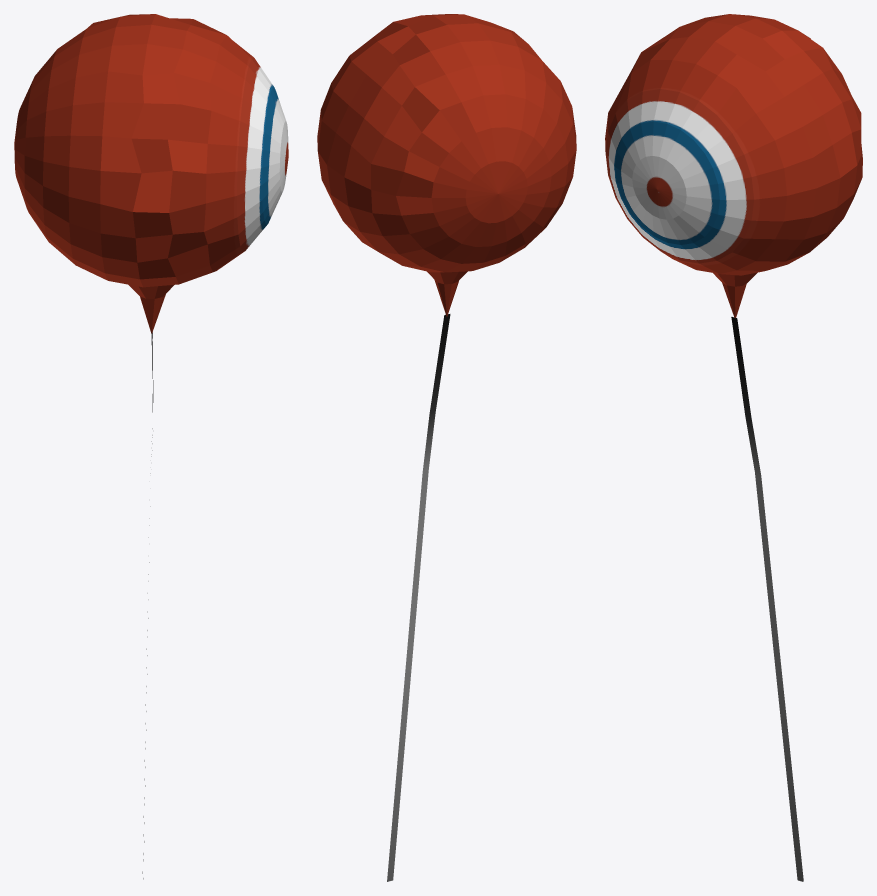
The model's file is Inflatable03.fbx.
3 renders of one model, left to right at view 1: azimuth 30°, elevation 25°; view 2: azimuth 150°, elevation 25°; view 3: azimuth 270°, elevation 25°, orthographic. The views are drawn at different scales.
Parts seen in each view (by area): view 1: Empty_Mesh; view 2: Empty_Mesh; view 3: Empty_Mesh.
Part boxes in pixels (x1=…): Empty_Mesh: x1=14, y1=14, x2=288, y2=879; Empty_Mesh: x1=317, y1=14, x2=576, y2=881; Empty_Mesh: x1=605, y1=14, x2=862, y2=881.
Size of the model in its own units: 356 by 1270 by 352.
